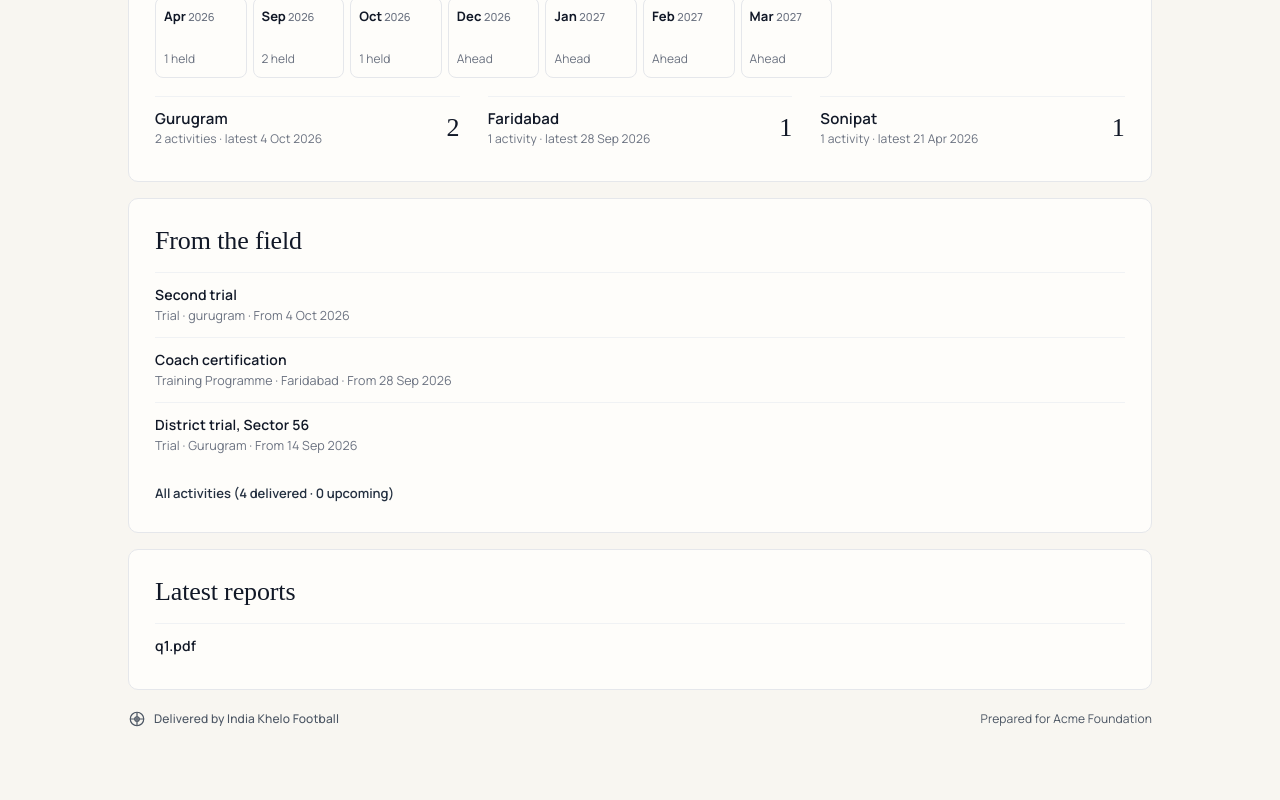
from the field shows the three latest activities and links to the rest
(page scrolled)
Expected: the heading "From the field" is shown, x1=155 y1=226 x2=302 y2=255
Expected: the text "Second trial" is shown, x1=155 y1=285 x2=237 y2=304
Click the button "All activities (4 delivered · 0 upcoming)" at (275,488), box x1=155 y1=466 x2=394 y2=510
(page scrolled)
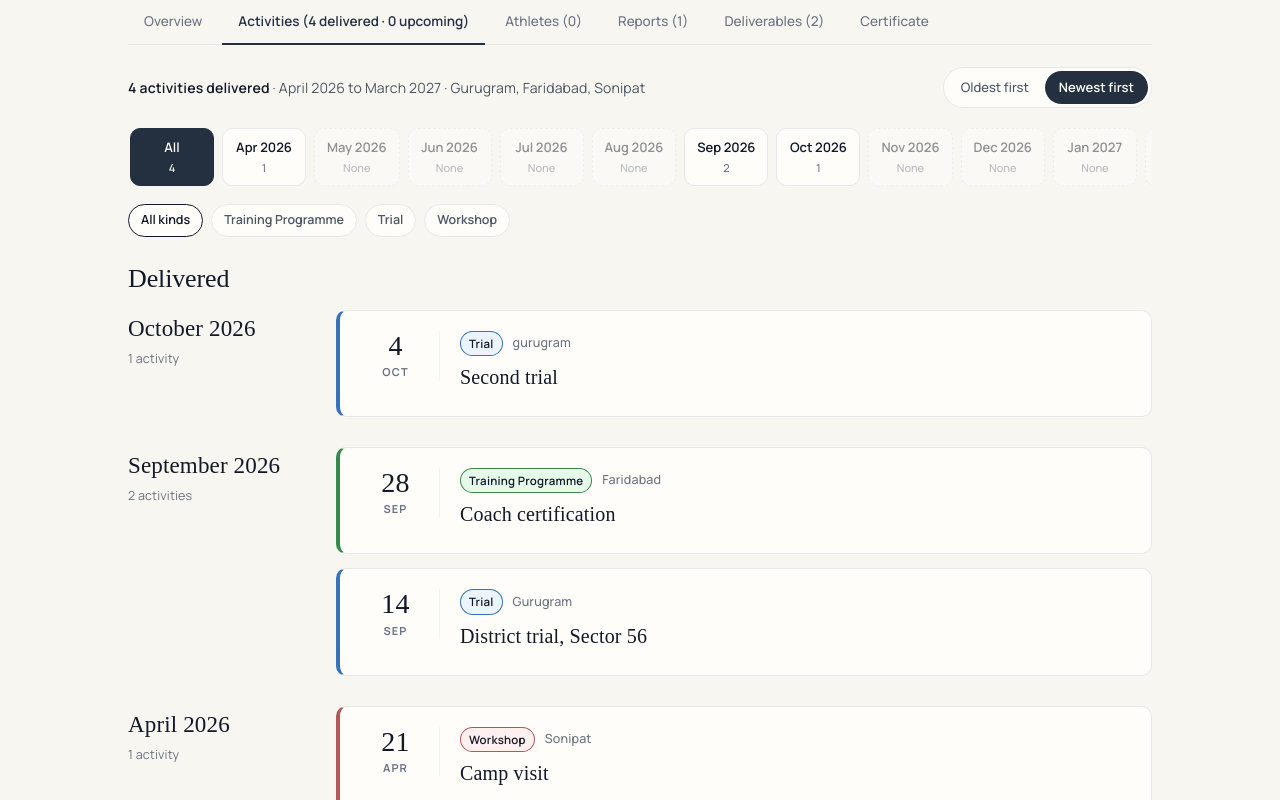
Result: the text "Camp visit" is shown at x1=460 y1=762 x2=549 y2=784
